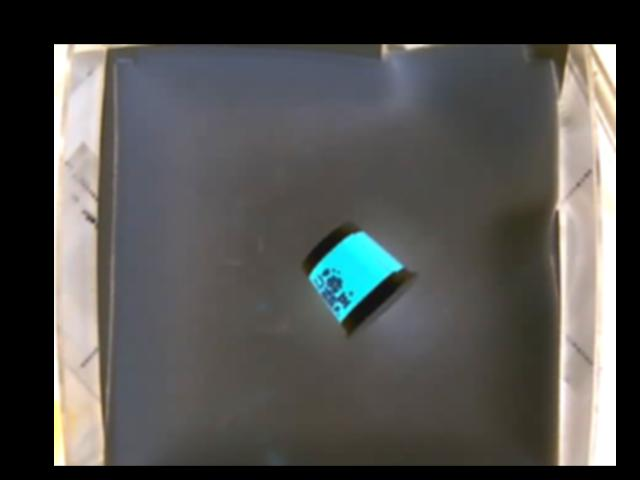Cup: (302, 221, 417, 334)
